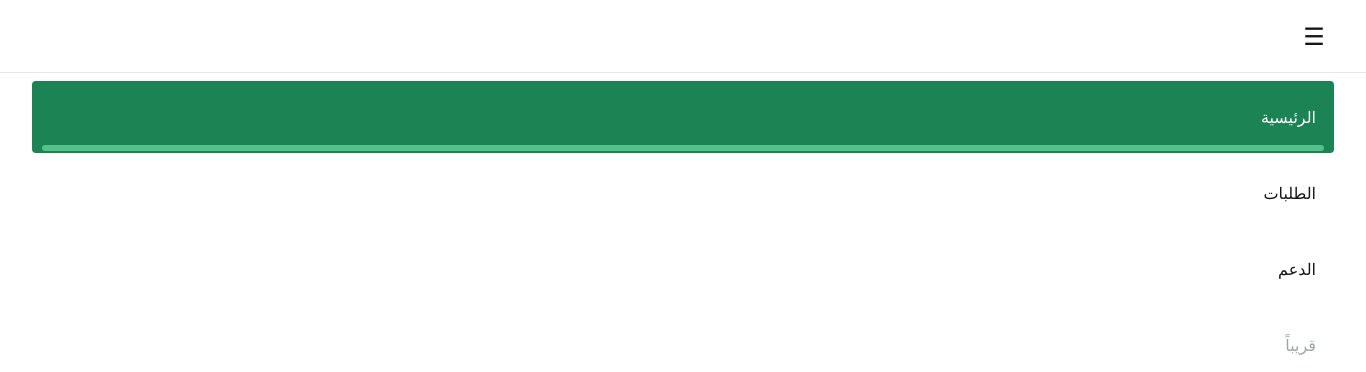
it: Header › collapses the nav behind a toggle below 960px and reveals it on click
The image size is (1366, 372).
Click the button named "القائمة". click: x=1314, y=36
box: [1294,16,1334,56]
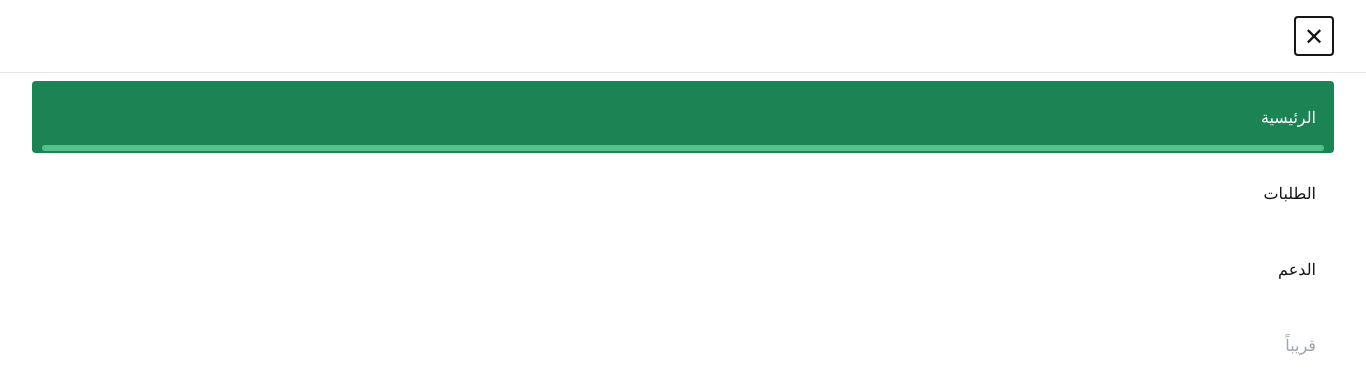
expect the link "الرئيسية" is shown: met, box [32,81,1334,153]
expect the button named "القائمة" is expanded: met, box [1294,16,1334,56]
